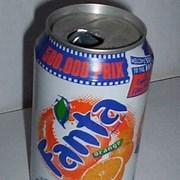metal: (32, 3, 154, 180)
